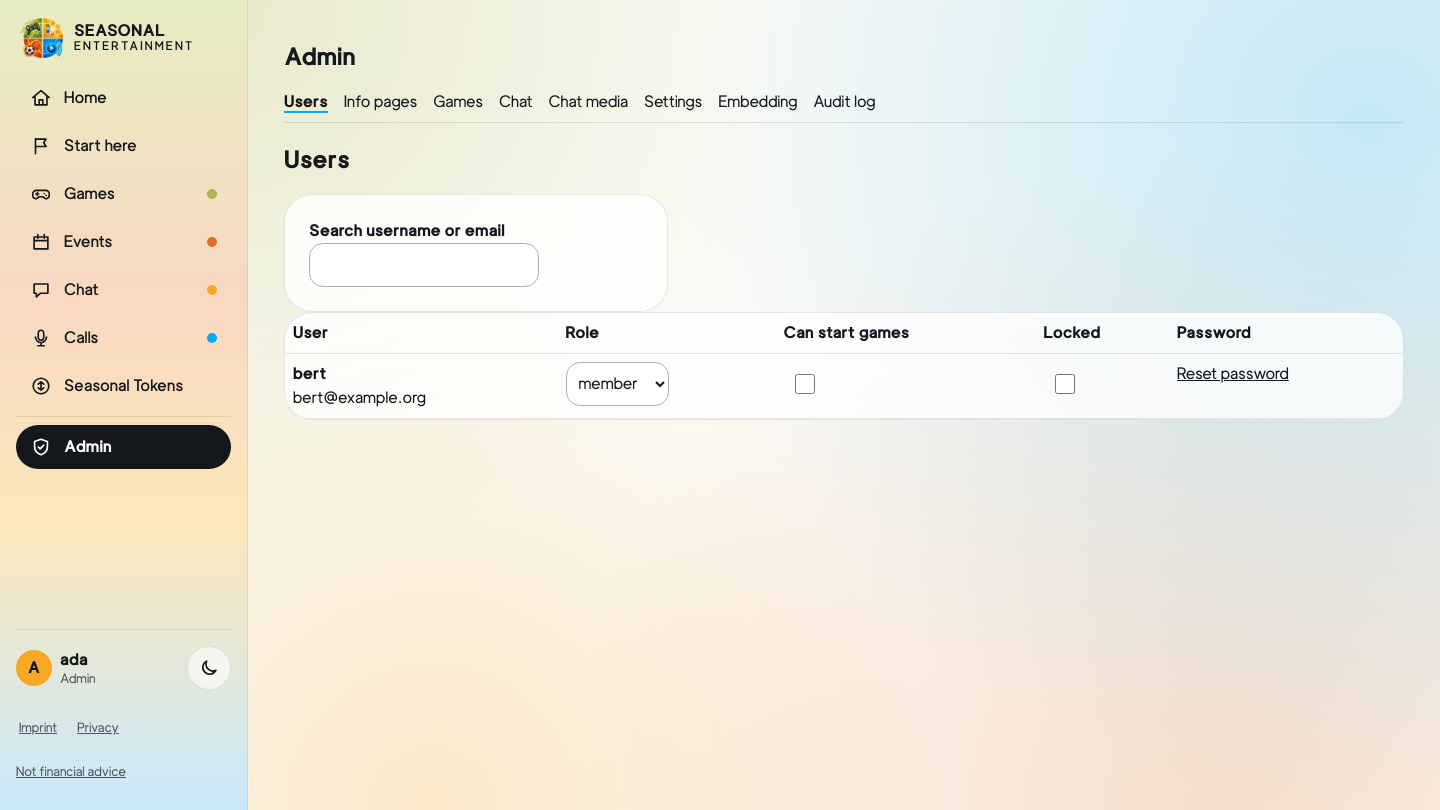
Test case: users page › shows a refusal in the row
Click the checkbox named "Locked for bert". click: (1065, 384)
box: [1055,374,1075,394]
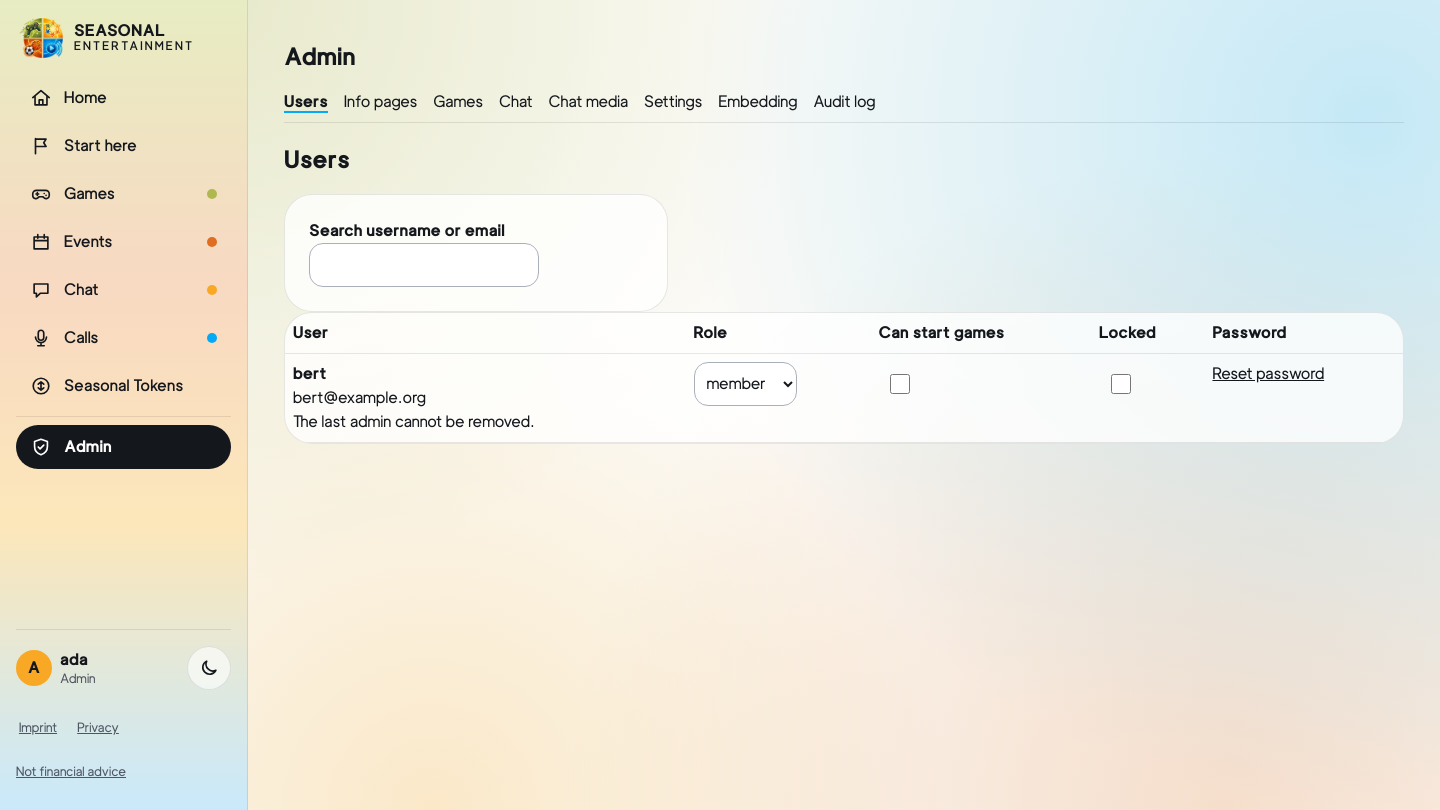
Result: the text "The last admin cannot be removed." is shown at [293,412,535,430]
